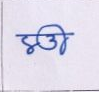i_matra: (53, 23, 68, 54)
